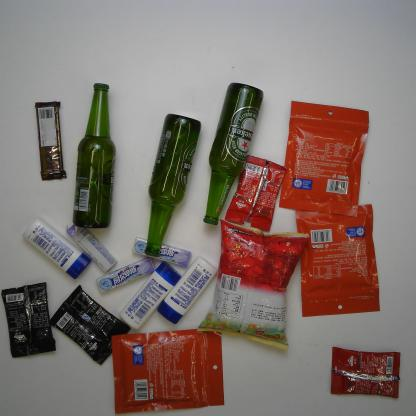Alcohol: (200, 84, 264, 226), (139, 110, 202, 254), (70, 78, 116, 231)
Candy: (68, 221, 121, 274), (94, 258, 158, 298), (132, 236, 195, 269)
Chocolate: (34, 96, 68, 182)
Dried Fruit: (274, 98, 371, 220), (294, 200, 386, 322), (106, 322, 228, 414)
Instant Drink: (47, 282, 135, 366), (229, 152, 289, 232), (4, 279, 58, 362), (326, 344, 404, 401)
Personal Hygiene: (117, 261, 184, 330), (21, 217, 92, 280), (155, 258, 221, 324)
Puffed Food: (196, 217, 314, 357)
